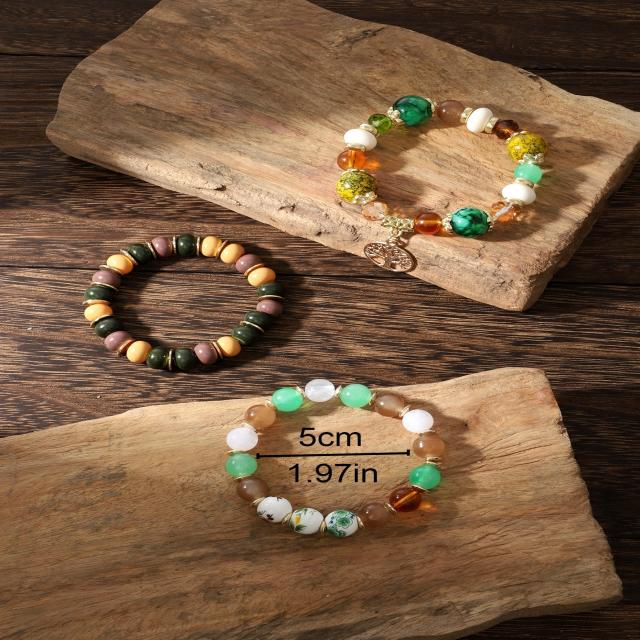bracelet: (314, 73, 634, 313), (182, 360, 569, 551), (58, 194, 346, 386)
